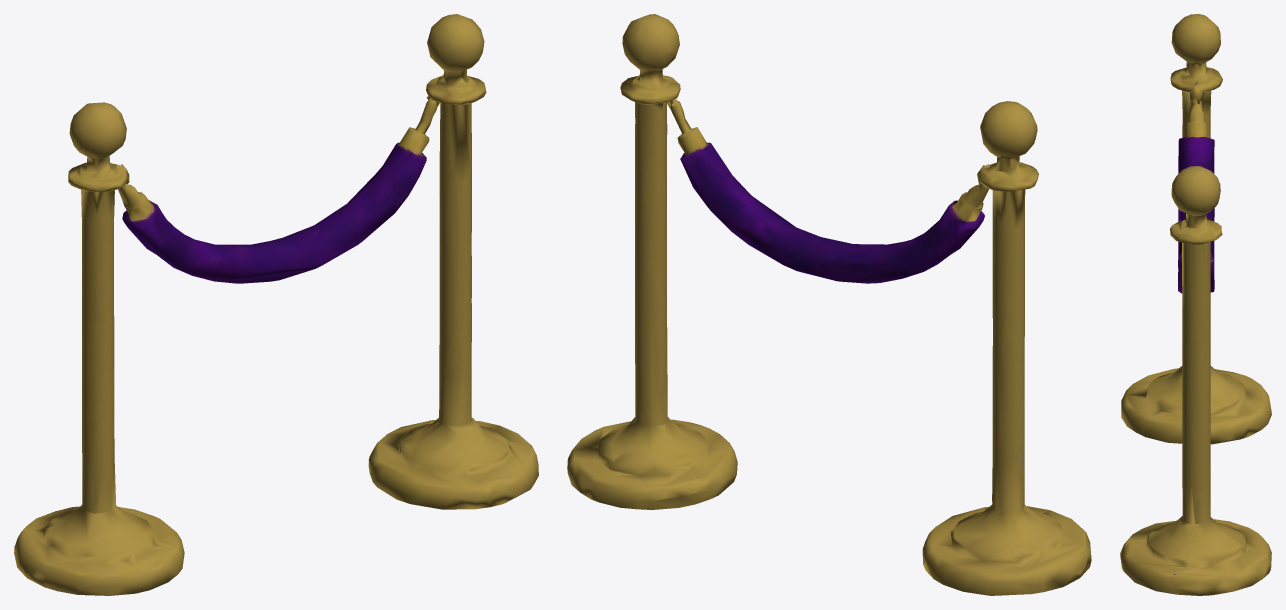
The model's file is stanchion-velvet-rope-3k.glb.
The picture shows the model from 3 angles, left to right: view 1: azimuth 30°, elevation 25°; view 2: azimuth 150°, elevation 25°; view 3: azimuth 270°, elevation 25°; orthographic projection. The views are drawn at different scales.
Visible parts, largest first — view 1: tripo_node_7c6ebcc4-fb04-42e8-8043-1d118a779b46; view 2: tripo_node_7c6ebcc4-fb04-42e8-8043-1d118a779b46; view 3: tripo_node_7c6ebcc4-fb04-42e8-8043-1d118a779b46.
Boxes of the visible parts, x1,y1,x2,y2 form: tripo_node_7c6ebcc4-fb04-42e8-8043-1d118a779b46: [14, 14, 538, 595]; tripo_node_7c6ebcc4-fb04-42e8-8043-1d118a779b46: [567, 14, 1091, 595]; tripo_node_7c6ebcc4-fb04-42e8-8043-1d118a779b46: [1120, 14, 1271, 595].
Bounding box in the file's own units: 0.999 × 0.8669 × 0.2998.
Materials: 1 (1 with a texture image).
